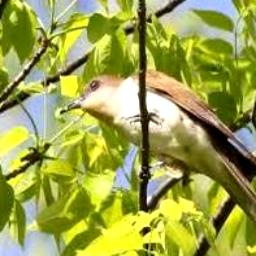Cuckoo: (60, 71, 256, 256)
